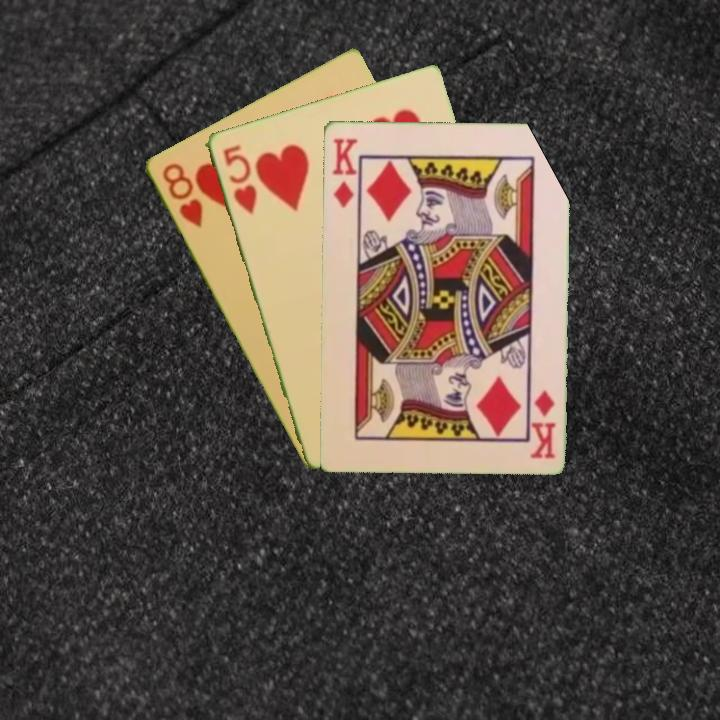5h: (219, 141, 259, 217)
8h: (157, 159, 205, 231)
Kd: (328, 134, 360, 215), (528, 386, 558, 461)
